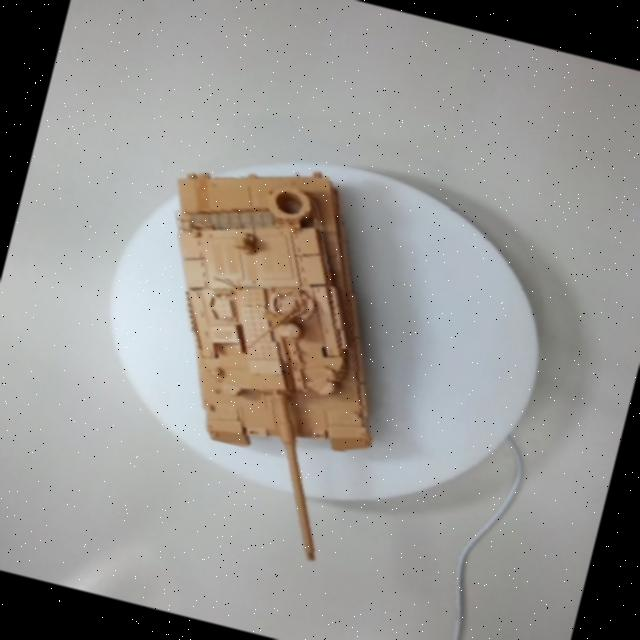korea tank: (72, 92, 480, 579)
